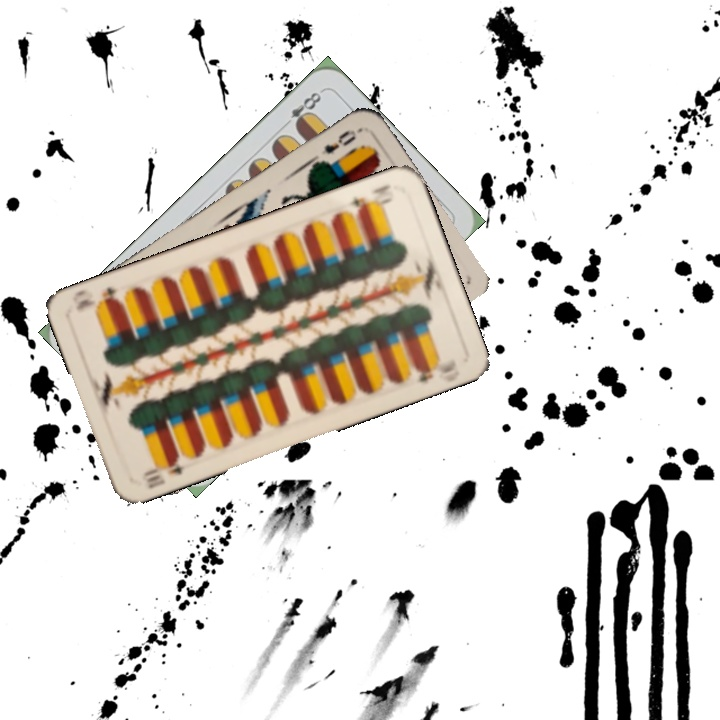E10: (140, 451, 191, 491), (346, 180, 395, 217)
E8: (278, 87, 324, 132)
EO: (317, 124, 364, 157)
